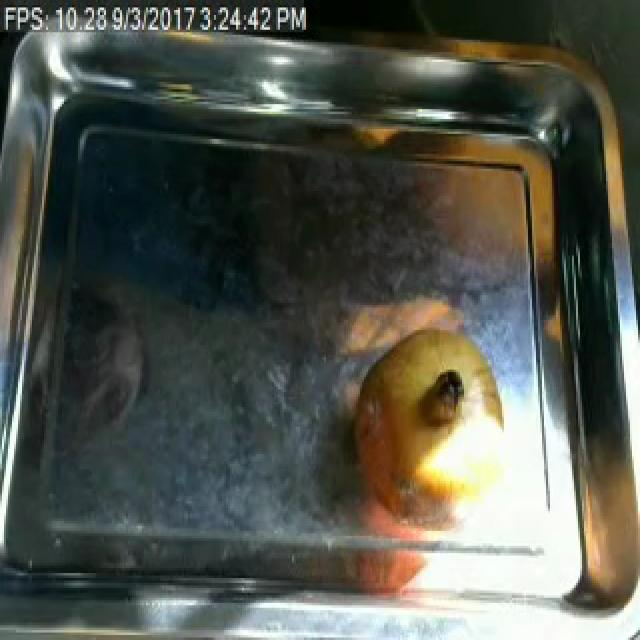fruit: (342, 315, 520, 543)
